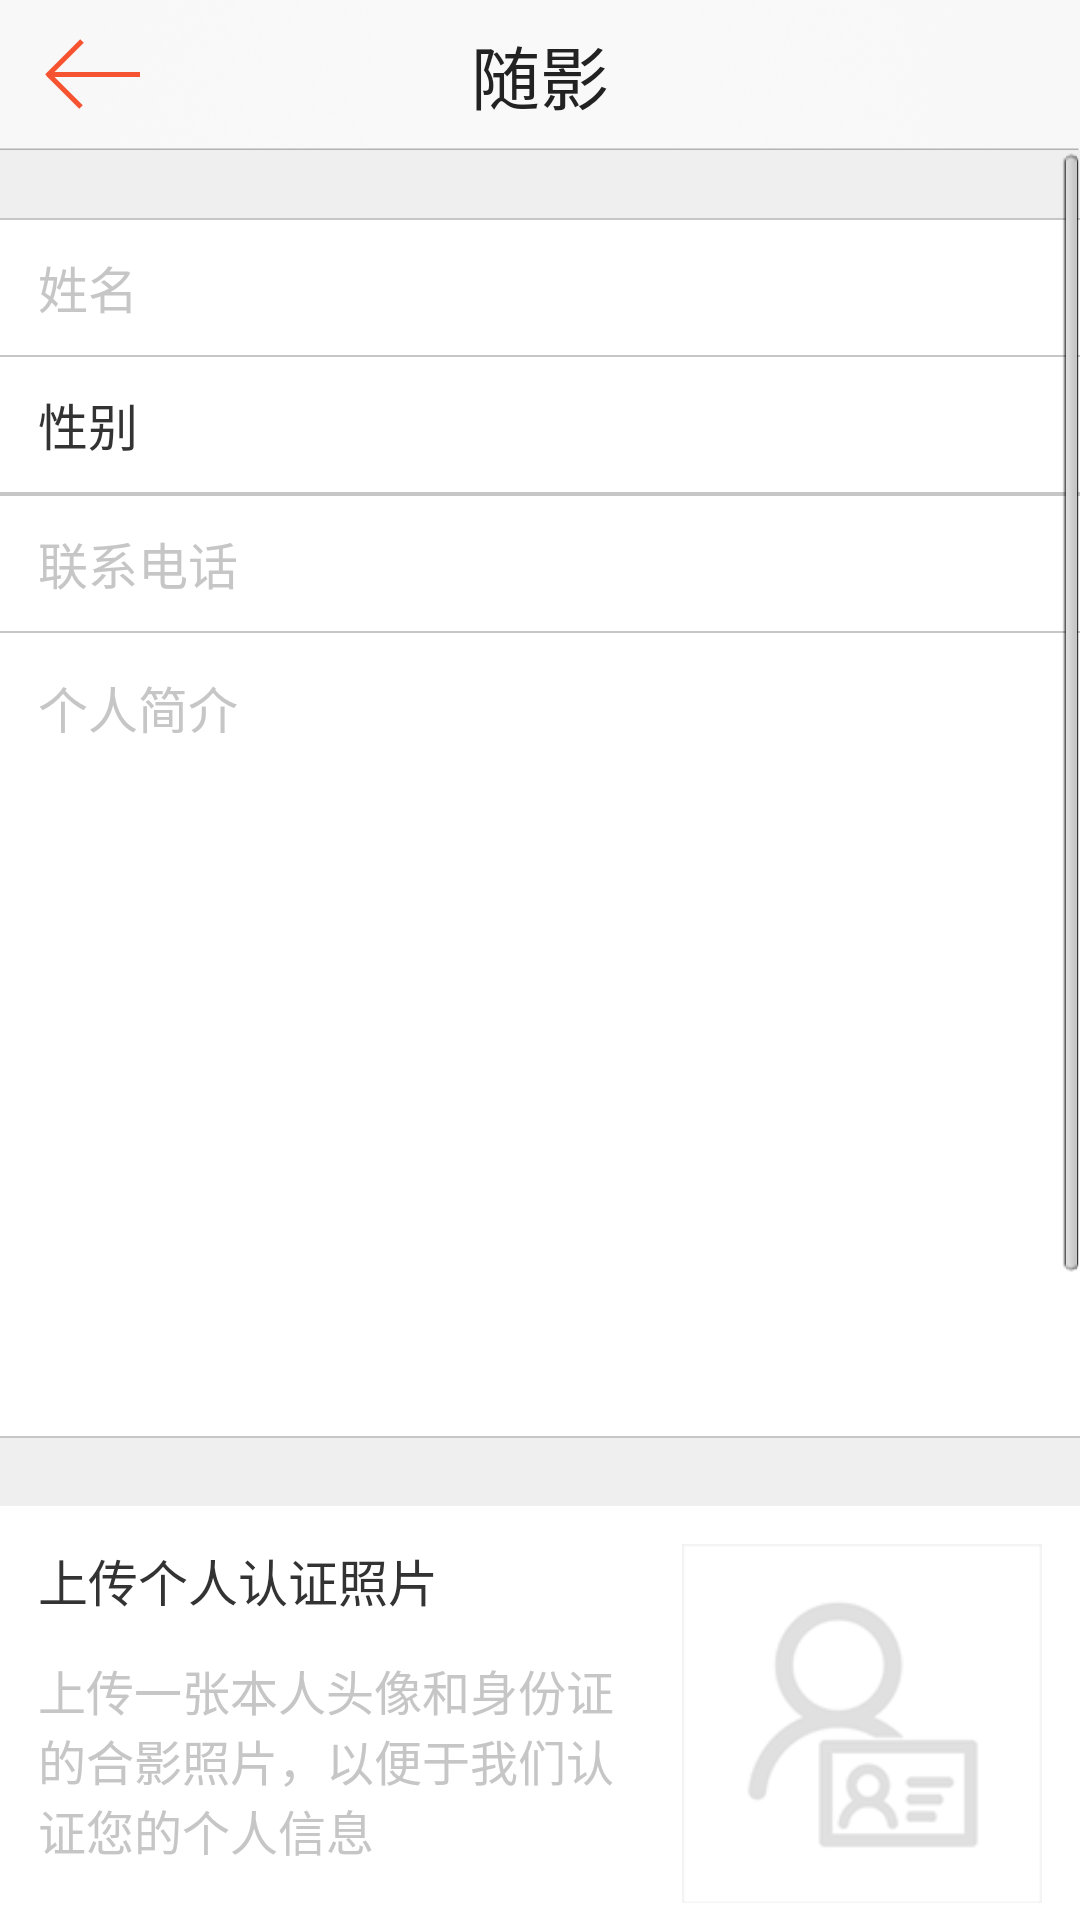

Named icons in this screenshot (1080*1920) and their centers, point (x, y):
upload certification photo: point (863, 1725)
